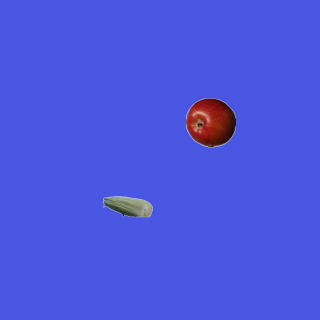Apple Braeburn: (185, 97, 235, 147)
Corn Husk: (102, 181, 152, 231)
